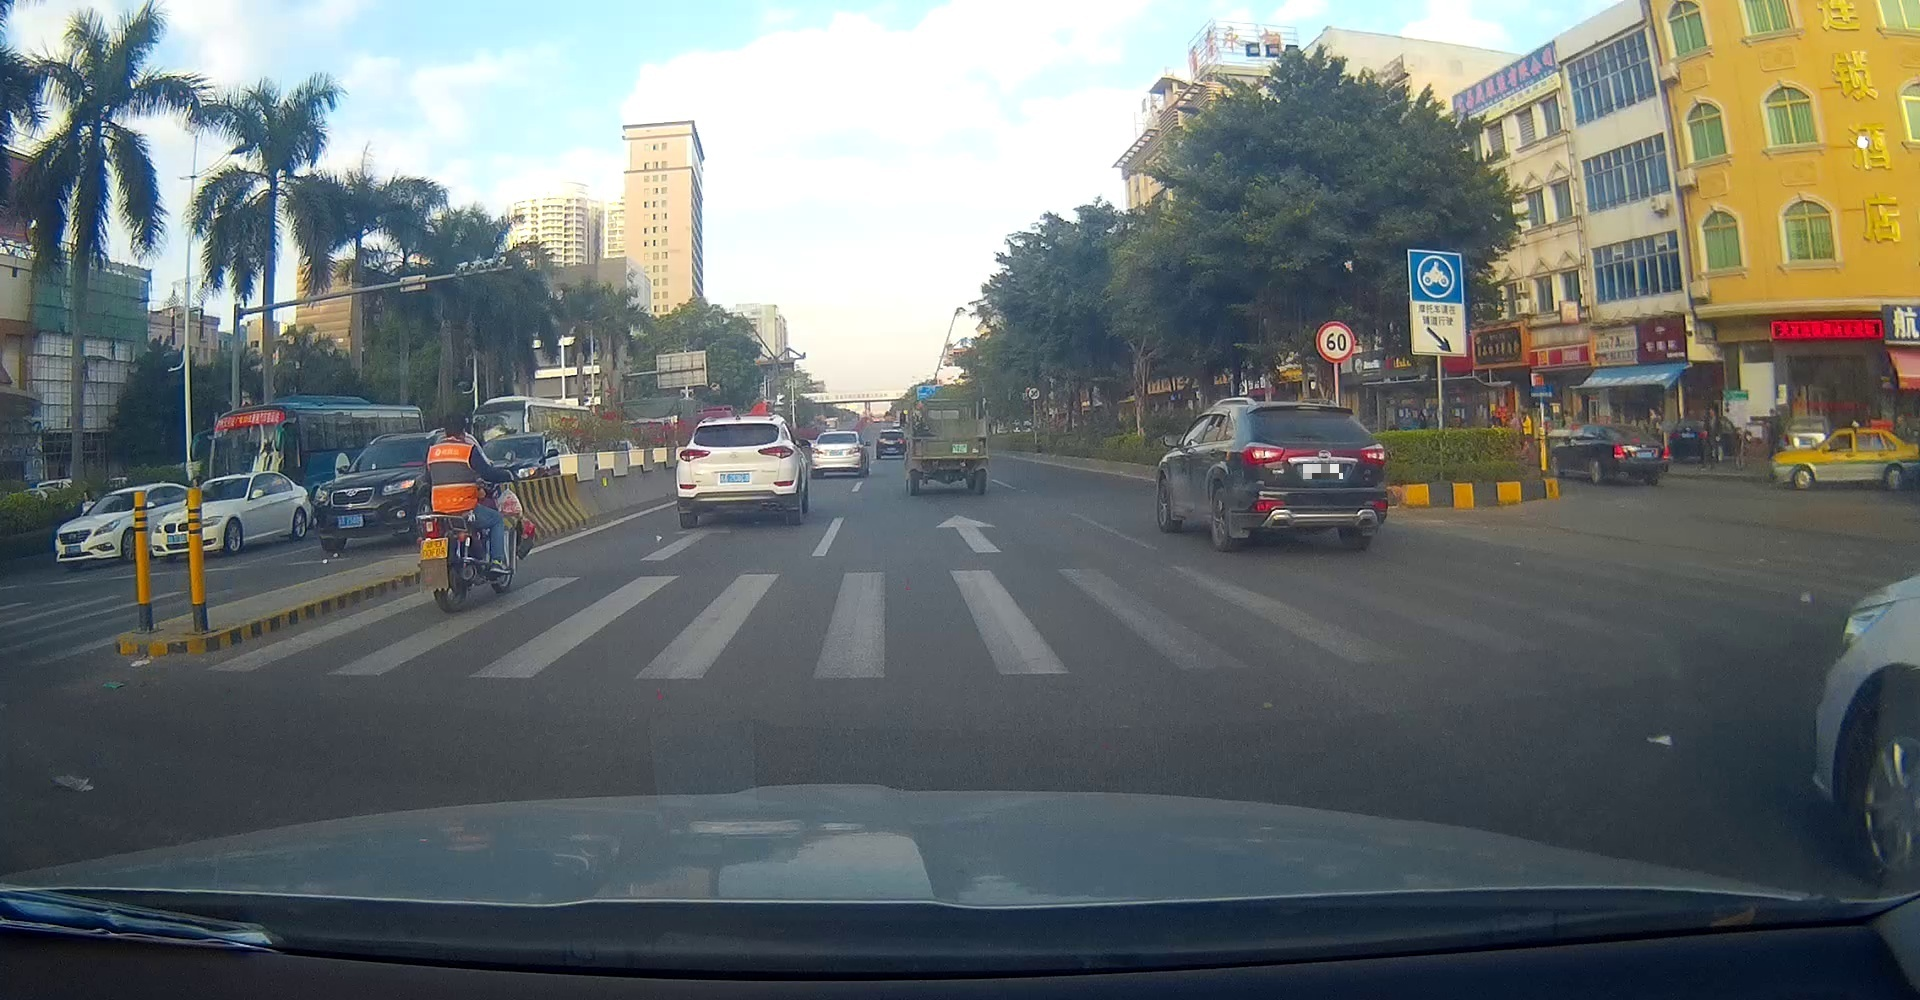L_light: (1244, 444, 1284, 463), (679, 449, 711, 462), (1611, 444, 1625, 459), (811, 448, 822, 454)
R_light: (1360, 443, 1385, 464), (757, 445, 794, 459), (1662, 445, 1670, 459), (848, 447, 858, 454)
T_light: (1300, 410, 1321, 415), (1630, 437, 1639, 442), (725, 425, 742, 428), (834, 433, 841, 435)
day-no: (1241, 402, 1387, 549), (676, 416, 795, 527), (1603, 425, 1670, 487), (811, 431, 860, 478)
plate_1: (1303, 464, 1343, 478)
